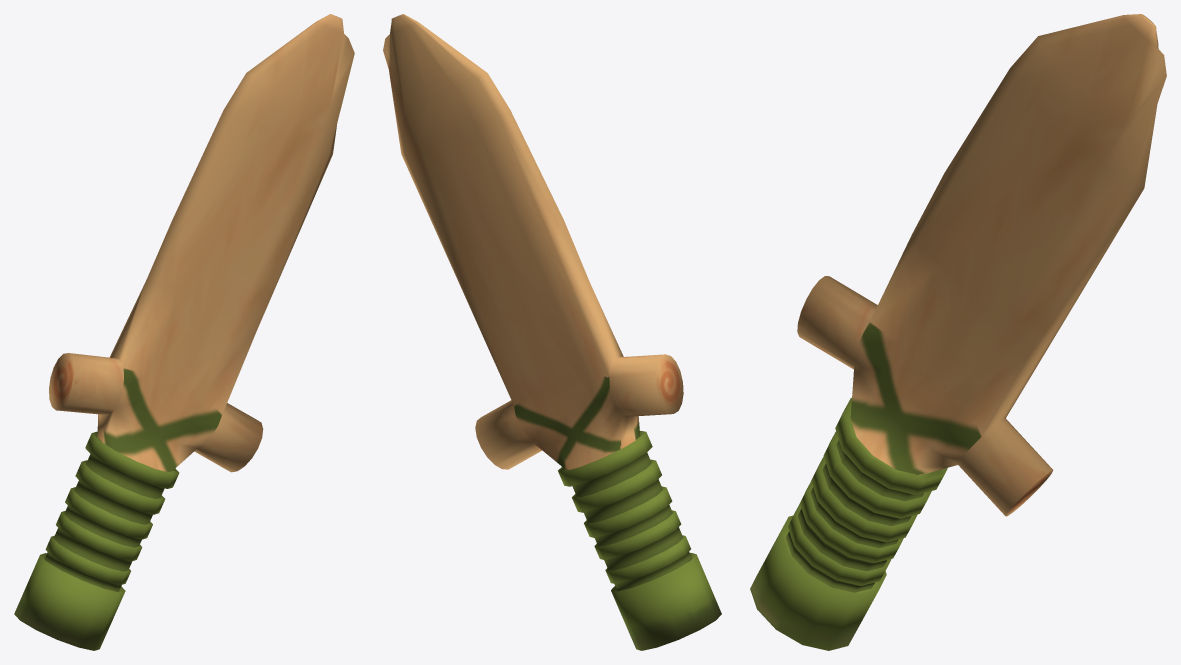
Rendered from item 8.fbx.
3 renders of one model, left to right at view 1: azimuth 30°, elevation 25°; view 2: azimuth 150°, elevation 25°; view 3: azimuth 330°, elevation 25°, orthographic. The views are drawn at different scales.
Parts seen in each view (by area): view 1: Cilindro; view 2: Cilindro; view 3: Cilindro.
Part boxes in pixels (<box>): Cilindro: <box>14,14,354,650</box>; Cilindro: <box>383,14,721,650</box>; Cilindro: <box>750,14,1166,650</box>.
Size of the model in its own units: 85.85 by 140 by 20.25.
